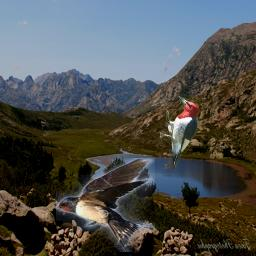Swallow: (56, 158, 155, 252)
Woodpecker: (160, 96, 200, 169)
